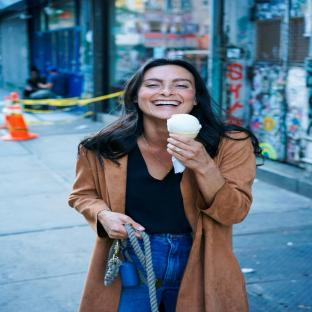Human: (69, 58, 261, 312)
